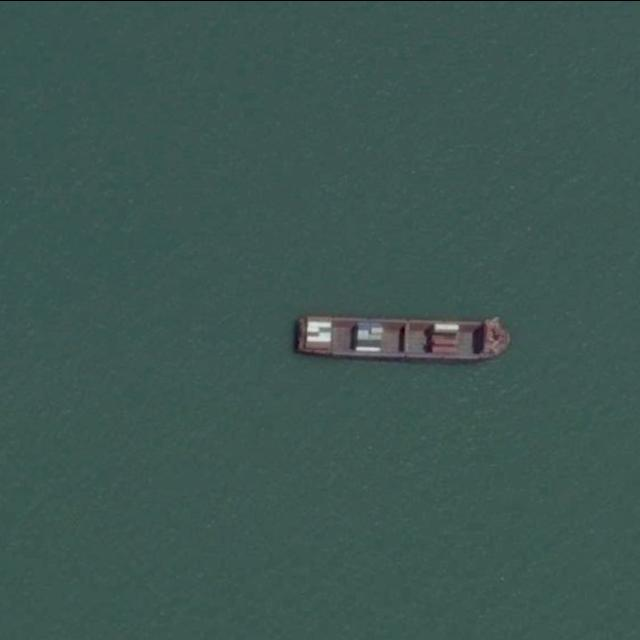ship: (292, 310, 514, 364)
